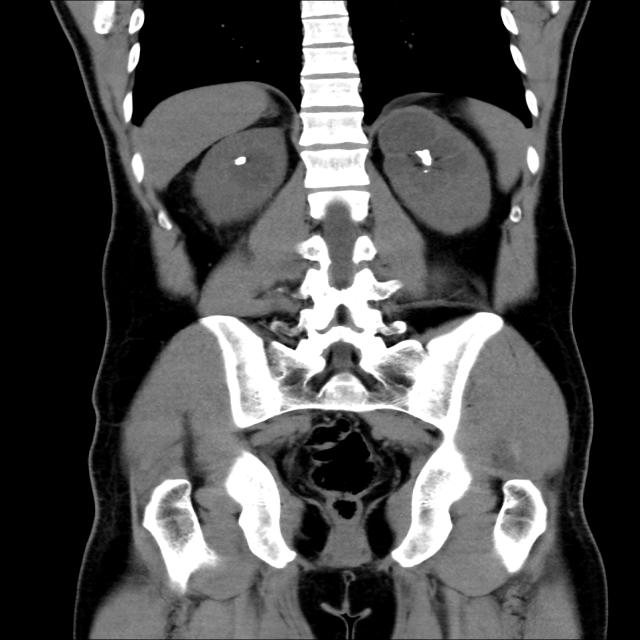kidneystone: (416, 149, 433, 166), (235, 156, 247, 165)
